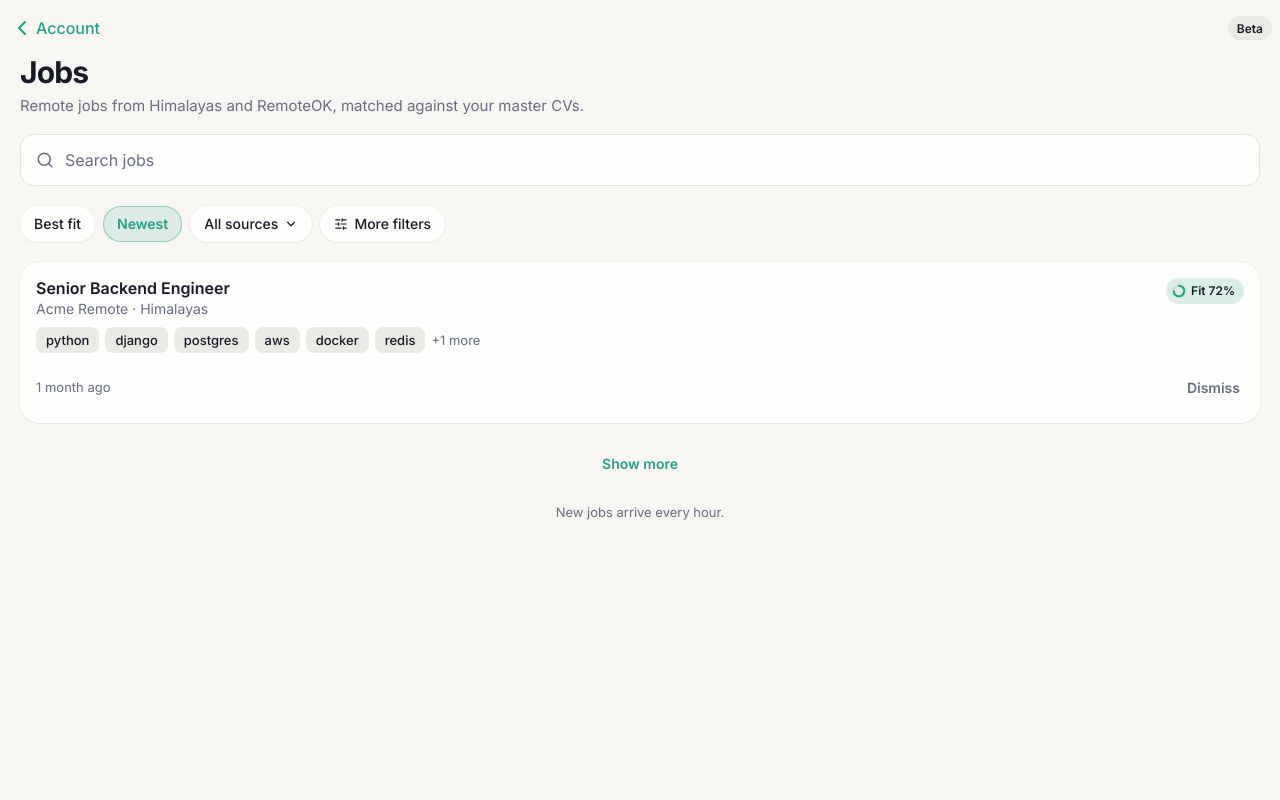
Jobs below md › pages with Show more on the same key, without writing ?page=
Expected: the element "Senior Backend Engineer" is shown, 20,262 -> 1260,423
Step 1. Click the button "Show more" → (640, 463), box 20,439 -> 1260,487
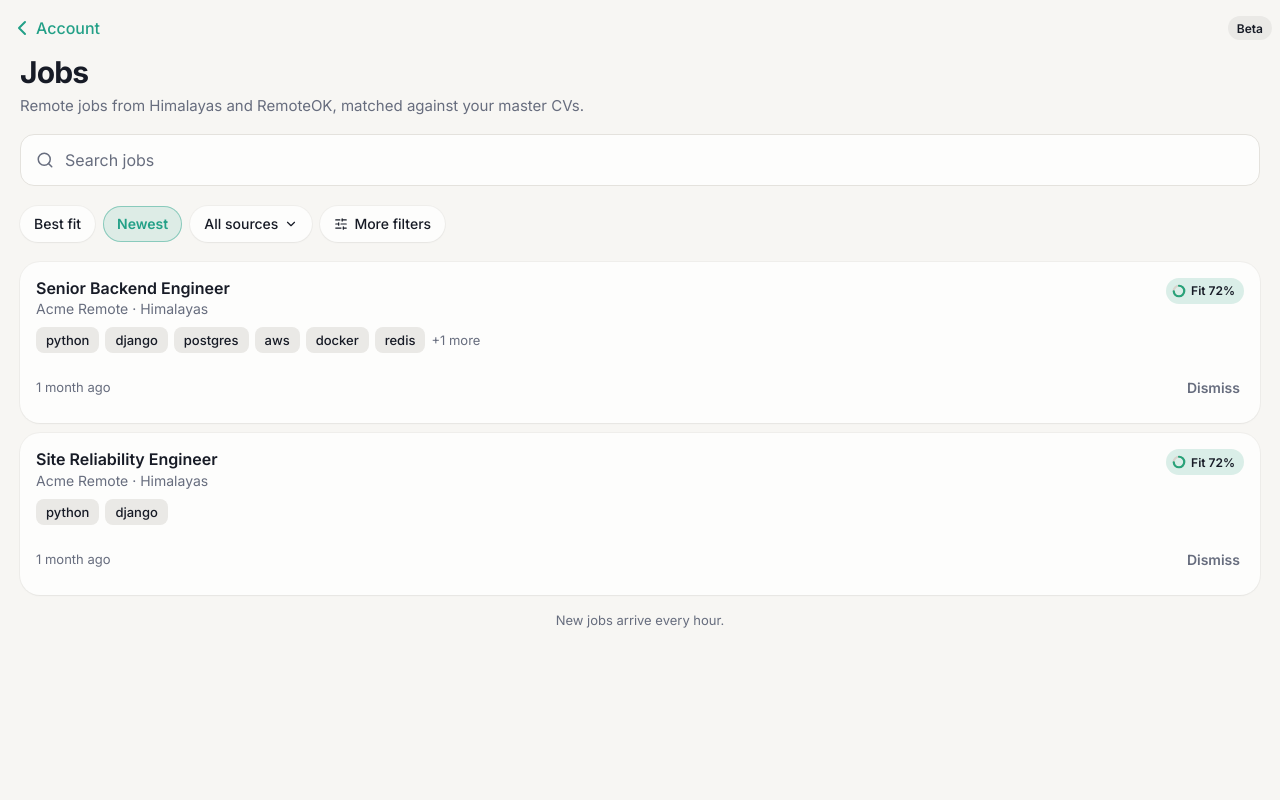
Now the element "Site Reliability Engineer" is shown, box 20,433 -> 1260,595
Now the button "Show more" is gone
